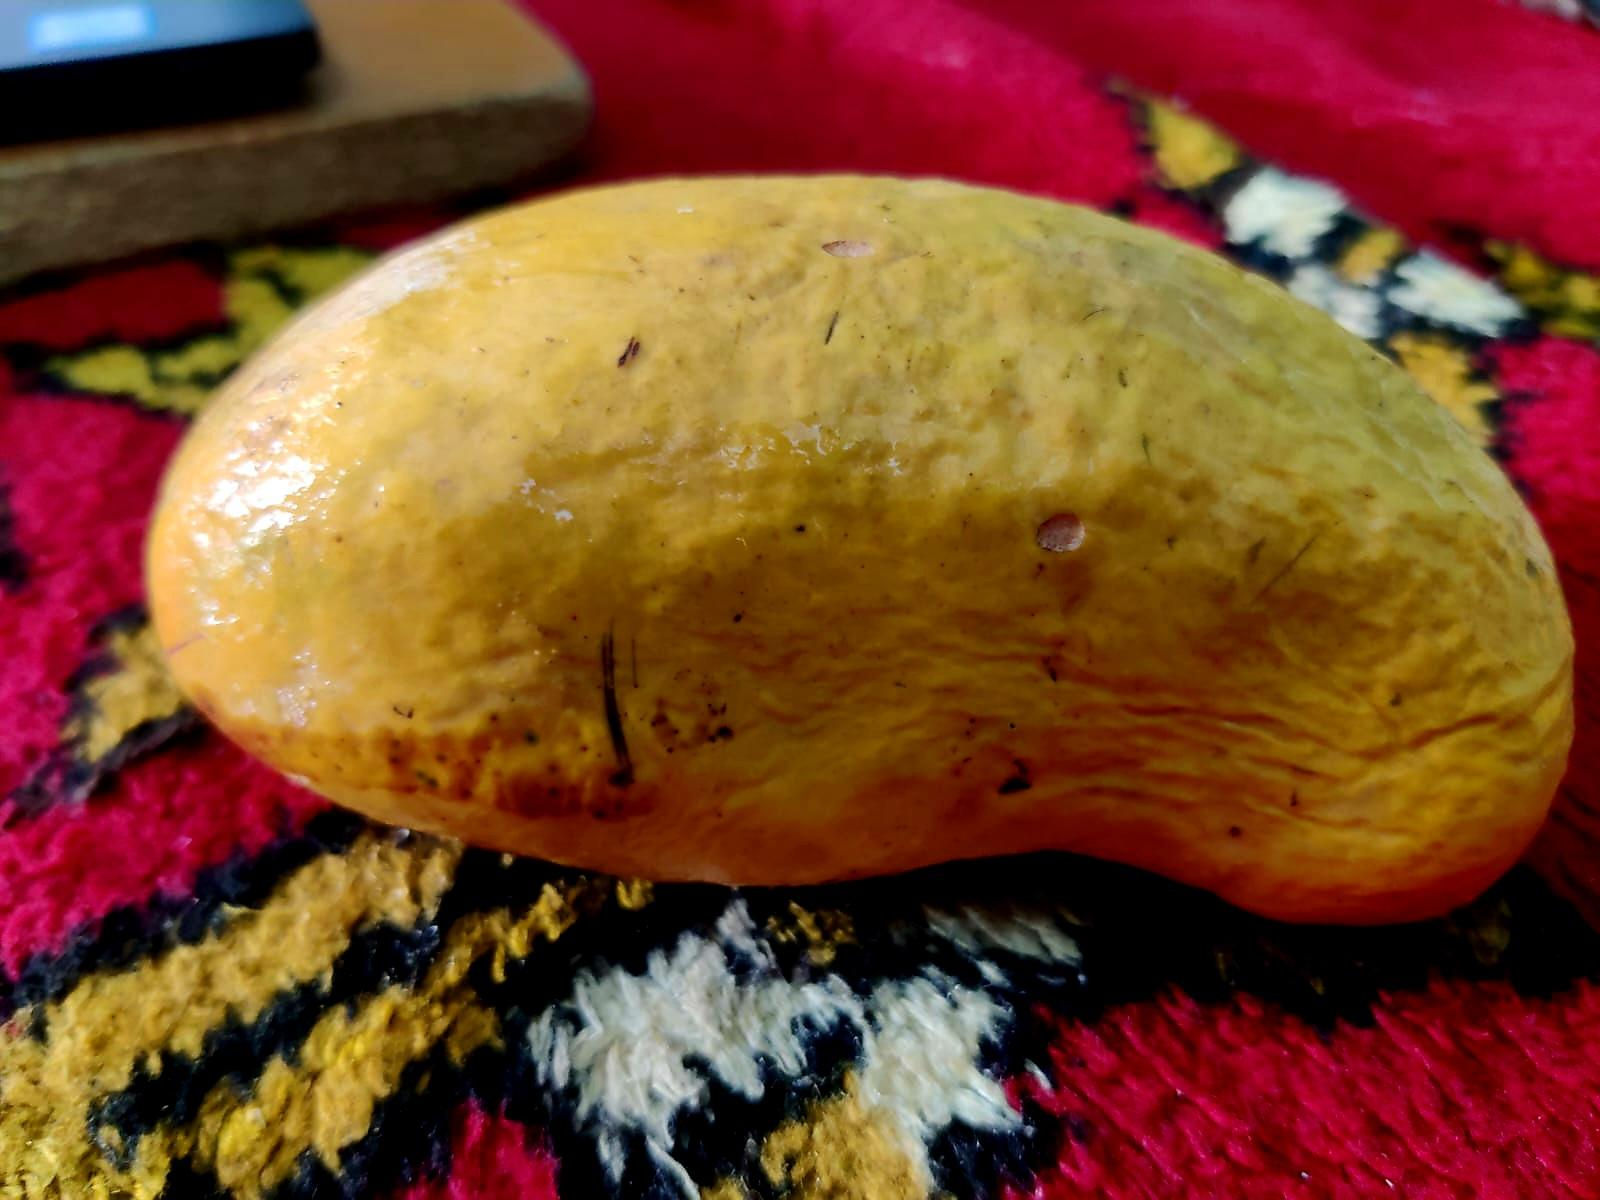mango: (142, 169, 1576, 925)
